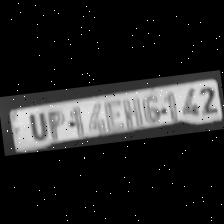1: (66, 102, 86, 139), (159, 87, 177, 117)
2: (194, 82, 218, 114)
4: (83, 98, 109, 132), (175, 84, 199, 116)
6: (138, 90, 167, 120)
E: (102, 97, 122, 128)
H: (119, 92, 140, 125)
P: (44, 105, 66, 138)
U: (22, 107, 50, 140)
